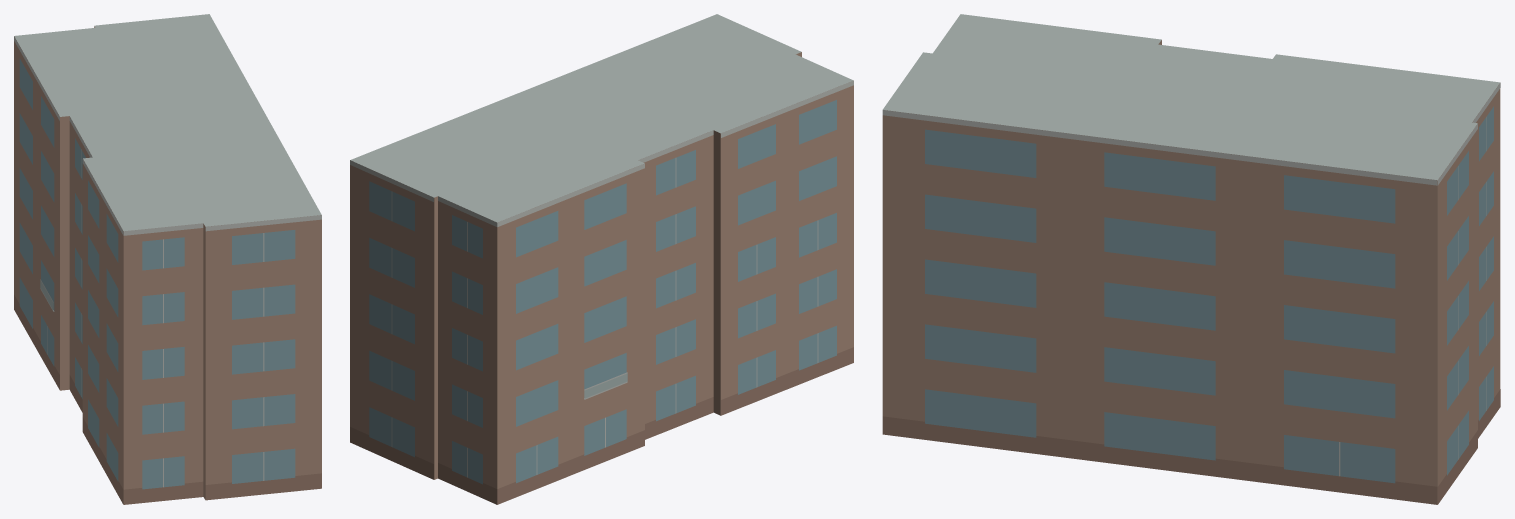
Rendered from survey-upis-32878608.glb.
The picture shows the model from 3 angles, left to right: view 1: azimuth 30°, elevation 25°; view 2: azimuth 150°, elevation 25°; view 3: azimuth 270°, elevation 25°; orthographic projection. The views are drawn at different scales.
Visible parts, largest first — view 1: survey-upis-32878608.tmp; view 2: survey-upis-32878608.tmp; view 3: survey-upis-32878608.tmp.
Boxes of the visible parts, left/top/right/bottom form: survey-upis-32878608.tmp: left=14, top=14, right=321, bottom=504; survey-upis-32878608.tmp: left=350, top=14, right=853, bottom=504; survey-upis-32878608.tmp: left=882, top=14, right=1500, bottom=504.
Bounding box in the file's own units: 15.93 × 14.5 × 25.02.
